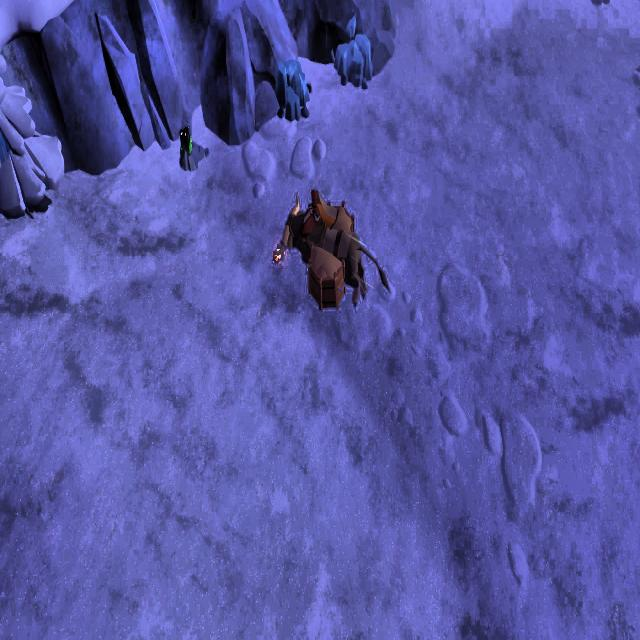ore_t3: (176, 126, 193, 162)
rock_t4: (330, 15, 372, 89), (273, 54, 310, 118)
